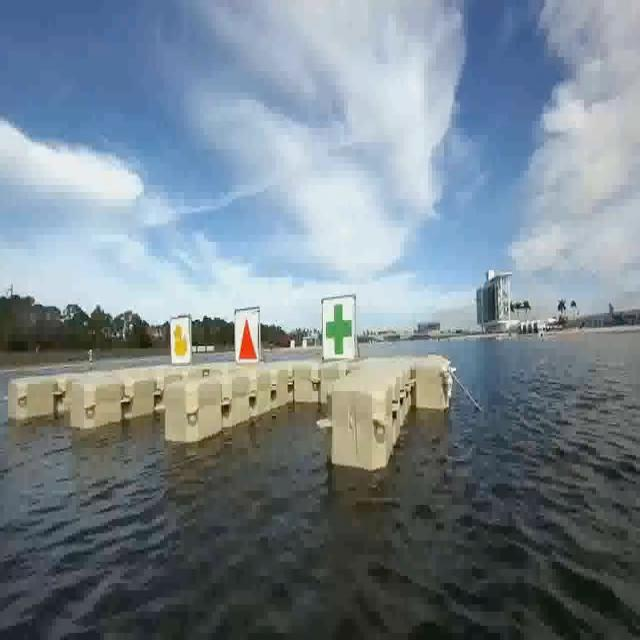blue-cross: (324, 296, 355, 358)
red-dot: (239, 316, 257, 359)
yellow-duck: (172, 322, 188, 358)
